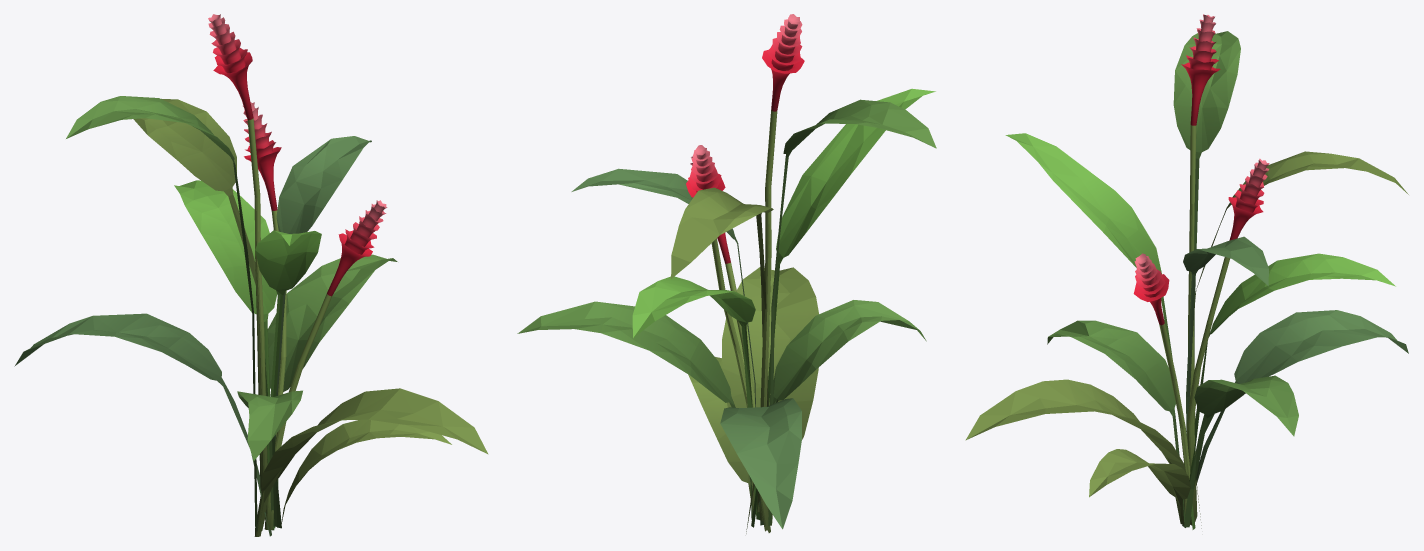
Rendered from Jungle_TallLeaf_B.fbx.
The picture shows the model from 3 angles, left to right: view 1: azimuth 30°, elevation 25°; view 2: azimuth 150°, elevation 25°; view 3: azimuth 270°, elevation 25°; orthographic projection. The views are drawn at different scales.
Parts seen in each view (by area): view 1: Jungle_TallLeaf_B; view 2: Jungle_TallLeaf_B; view 3: Jungle_TallLeaf_B.
Boxes of the visible parts, <box> form: Jungle_TallLeaf_B: <box>14,14,488,536</box>; Jungle_TallLeaf_B: <box>517,14,936,533</box>; Jungle_TallLeaf_B: <box>965,14,1408,529</box>.
Bounding box in the file's own units: 1.92 × 2.6 × 2.09.
